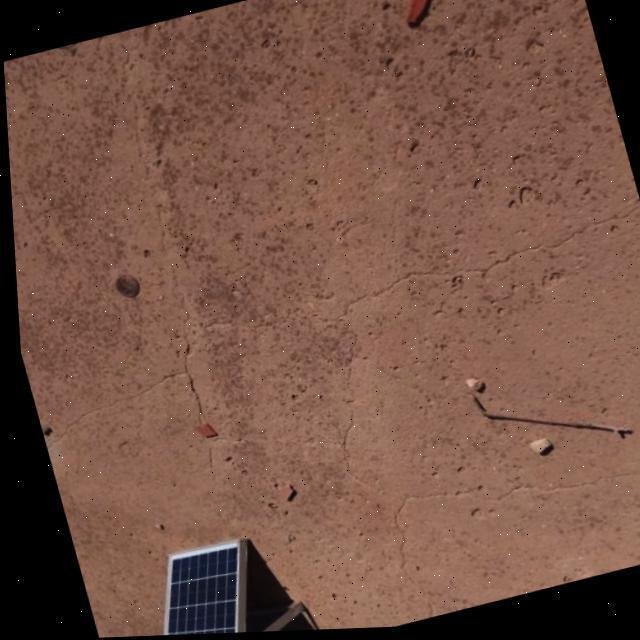Normal Solar Panel: (116, 538, 262, 638)
